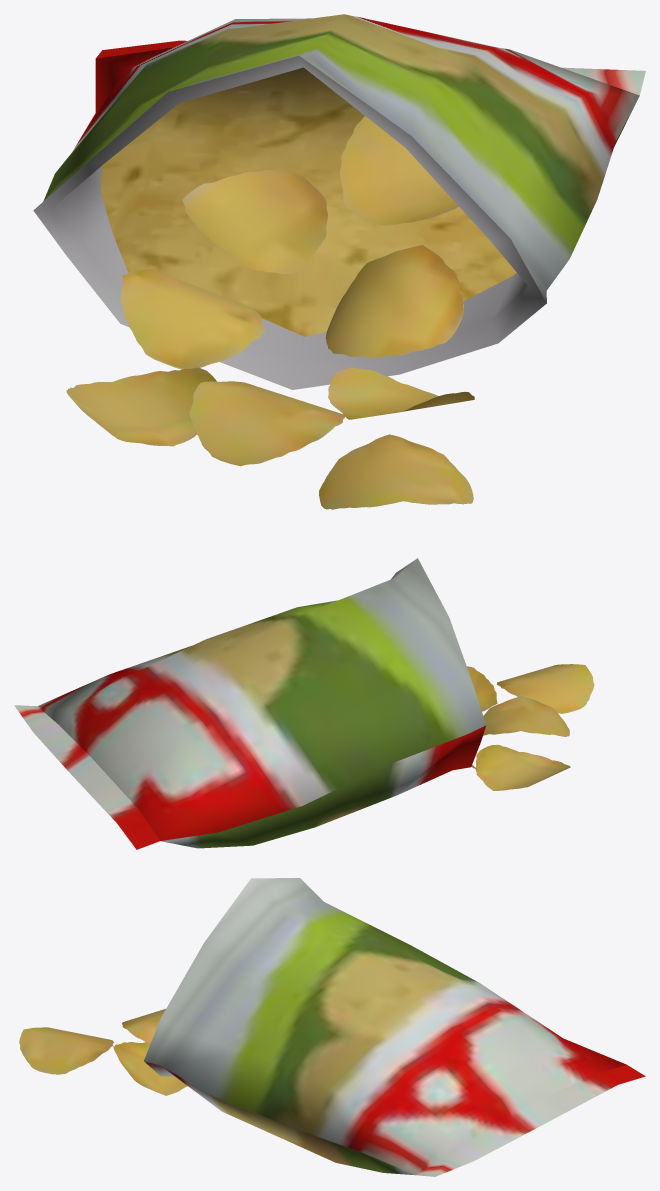
3 views of the same model, one above another, from view 1: azimuth 30°, elevation 25°; view 2: azimuth 150°, elevation 25°; view 3: azimuth 270°, elevation 25° (orthographic). The views are drawn at different scales.
Bounding box in the file's own units: 8.47 × 3.23 × 9.42.
2 materials, 2 textured.
